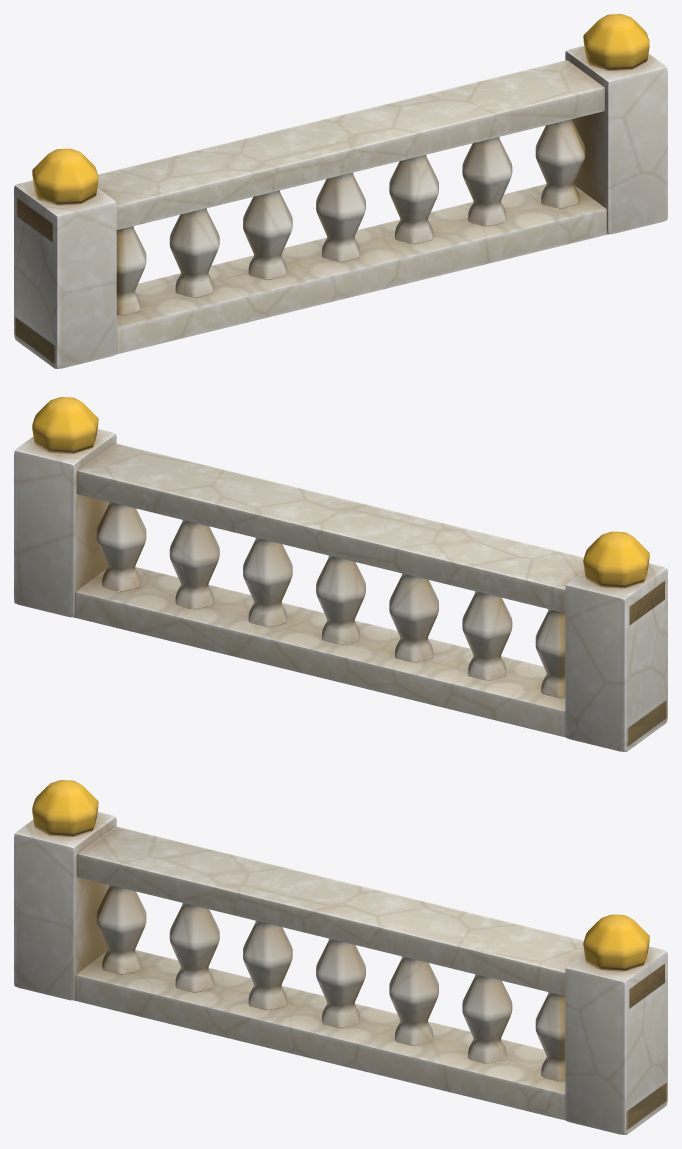
The model's file is Divin_Balustrade.fbx.
3 views of the same model, one above another, from view 1: azimuth 30°, elevation 25°; view 2: azimuth 150°, elevation 25°; view 3: azimuth 330°, elevation 25° (orthographic).
Parts seen in each view (by area): view 1: Divin_Balustrade; view 2: Divin_Balustrade; view 3: Divin_Balustrade.
Boxes of the visible parts, <box> form: Divin_Balustrade: <box>14,14,667,368</box>; Divin_Balustrade: <box>14,397,667,751</box>; Divin_Balustrade: <box>14,780,667,1134</box>.
Bounding box in the file's own units: 1200 × 370 × 150.
Materials: 1 (1 with a texture image).
